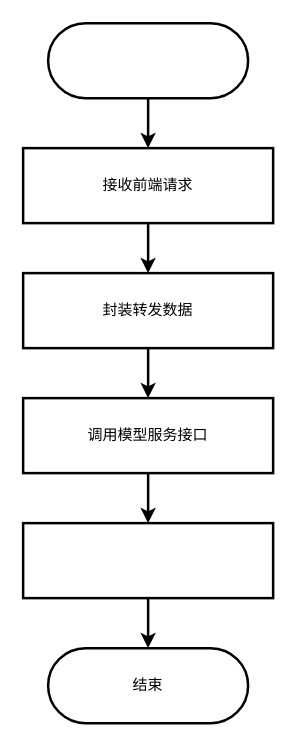
The diagram is 295 pixels wide and 745 high, and some of its shapes have lost their labels. Each missing label, with the centre of its shape:
开始: the point at 147,60
结果解析与持久化: the point at 147,560
